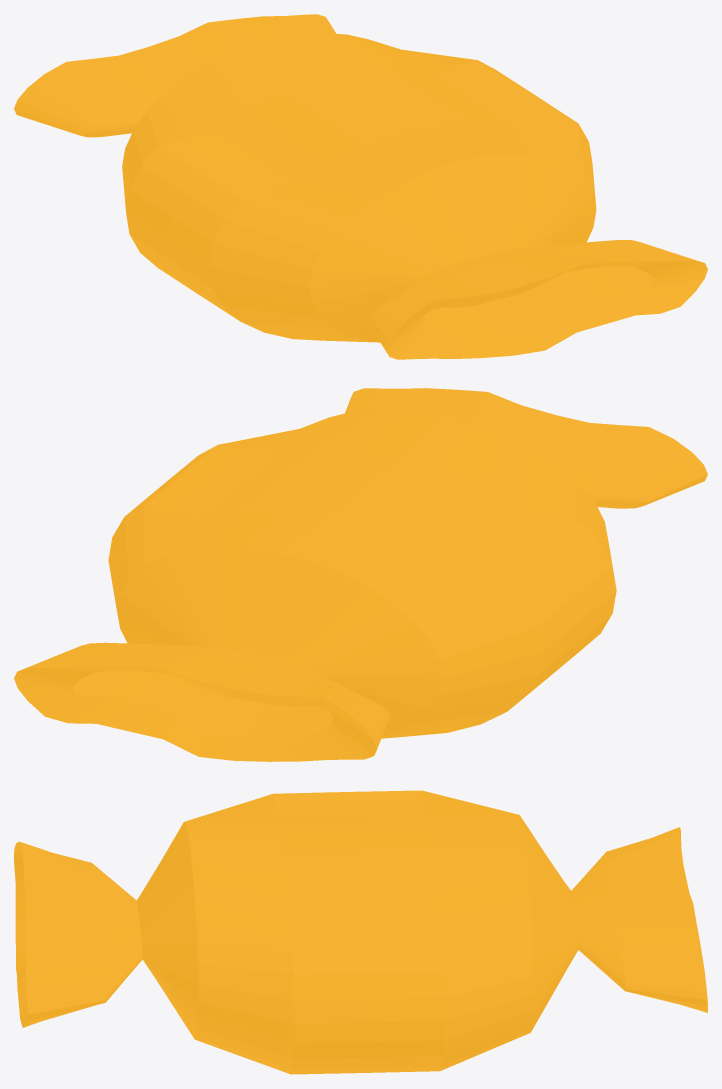
File: candy.glb
The picture shows the model from 3 angles, top to bottom: view 1: azimuth 30°, elevation 25°; view 2: azimuth 150°, elevation 25°; view 3: azimuth 270°, elevation 25°; orthographic projection. The views are drawn at different scales.
Parts seen in each view (by area): view 1: Cylinder; view 2: Cylinder; view 3: Cylinder.
Boxes of the visible parts, left/top/right/bottom form: Cylinder: left=14, top=14, right=707, bottom=359; Cylinder: left=14, top=388, right=707, bottom=761; Cylinder: left=14, top=790, right=707, bottom=1074.
Bounding box in the file's own units: 2.03 × 0.9645 × 3.11.
